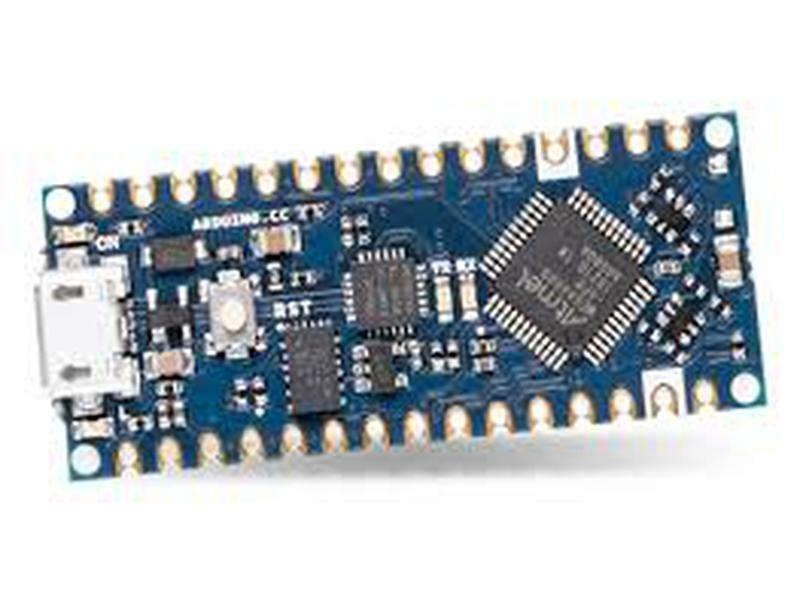Arduino_Nano: (30, 105, 773, 495)
